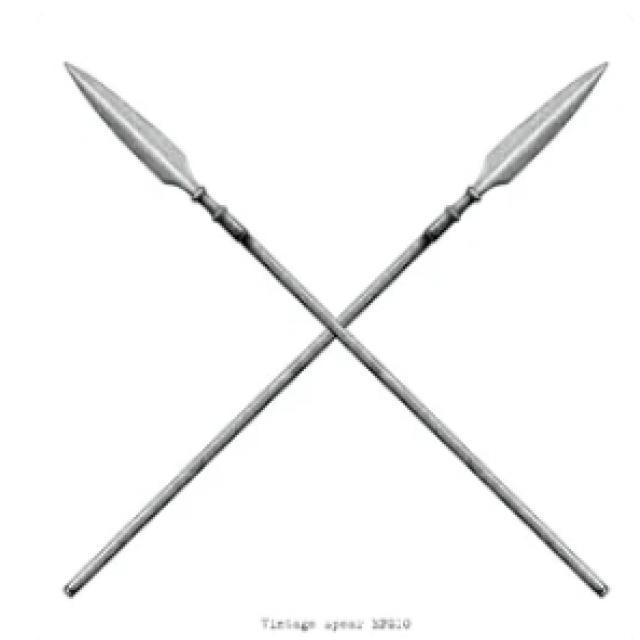spear: (41, 27, 614, 610)
